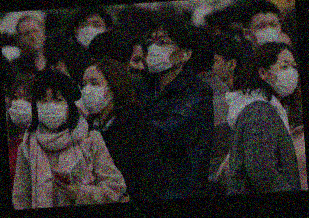with_mask: (36, 92, 71, 130), (8, 89, 37, 132), (79, 76, 111, 114), (145, 33, 174, 72), (272, 58, 300, 98), (76, 18, 108, 49), (254, 19, 282, 47)
without_mask: (18, 26, 47, 52)
